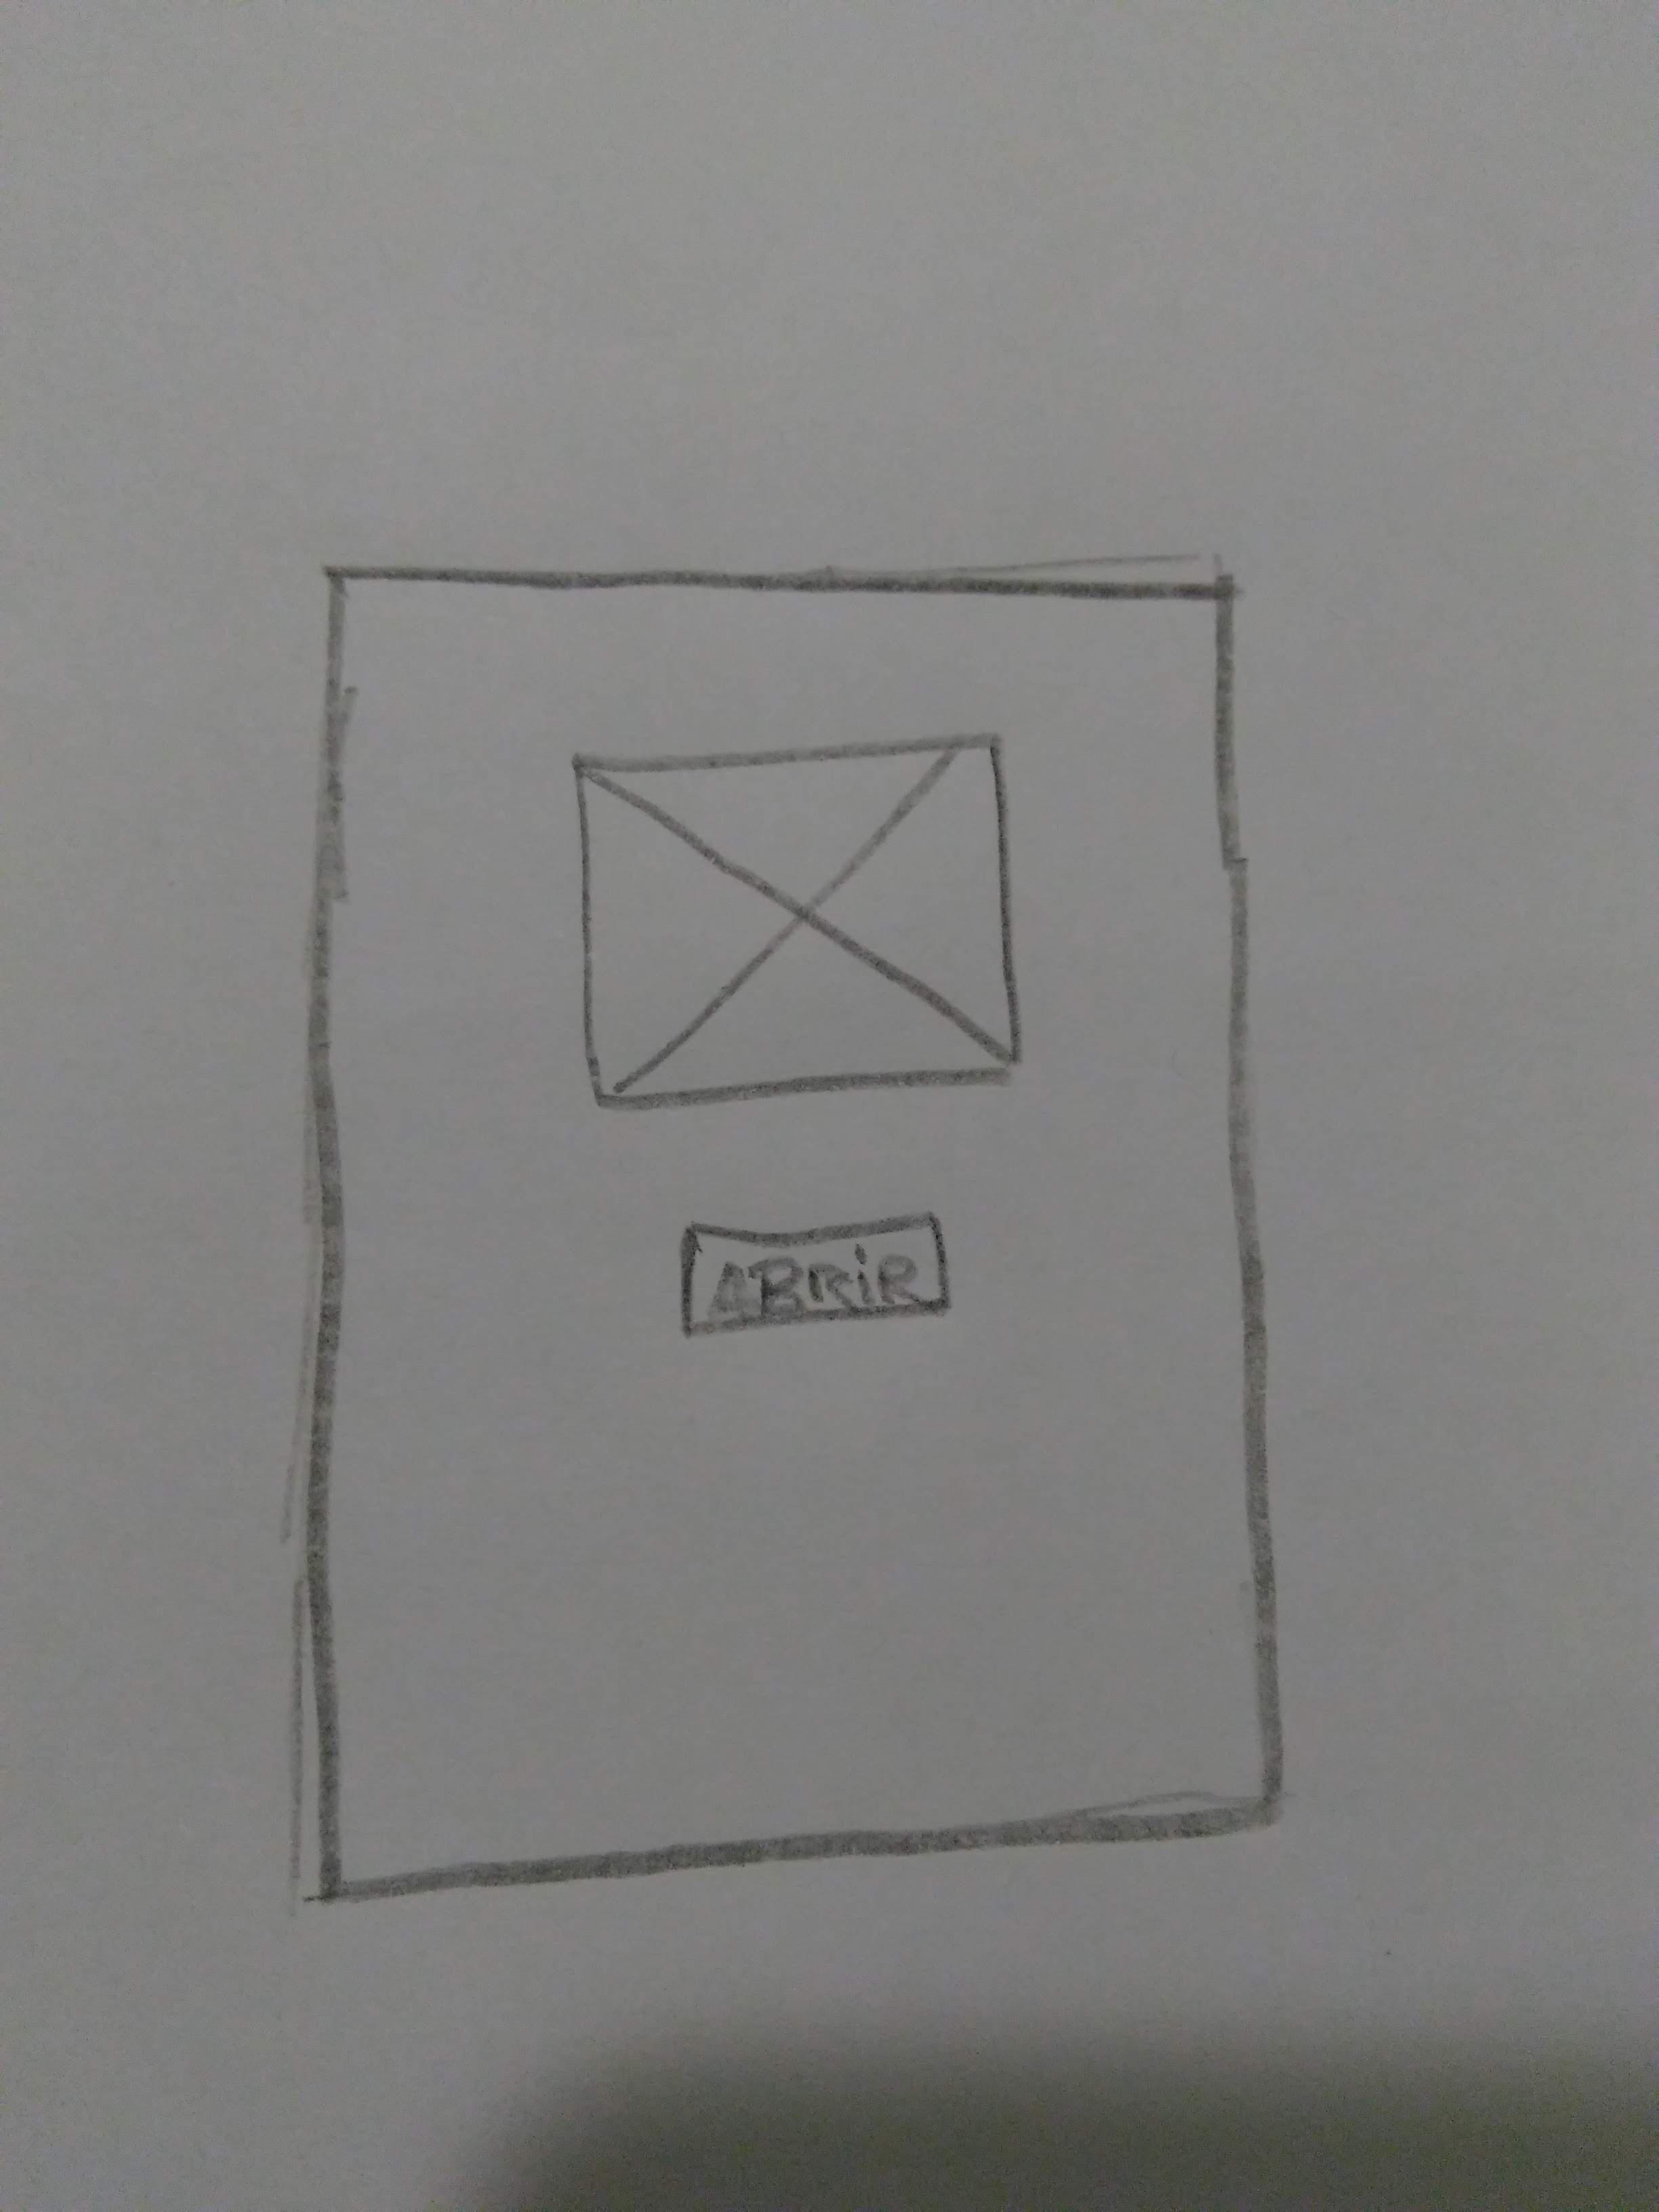Button: (678, 1216, 953, 1332)
Image: (570, 735, 1023, 1106)
Screen: (319, 563, 1277, 1900)
